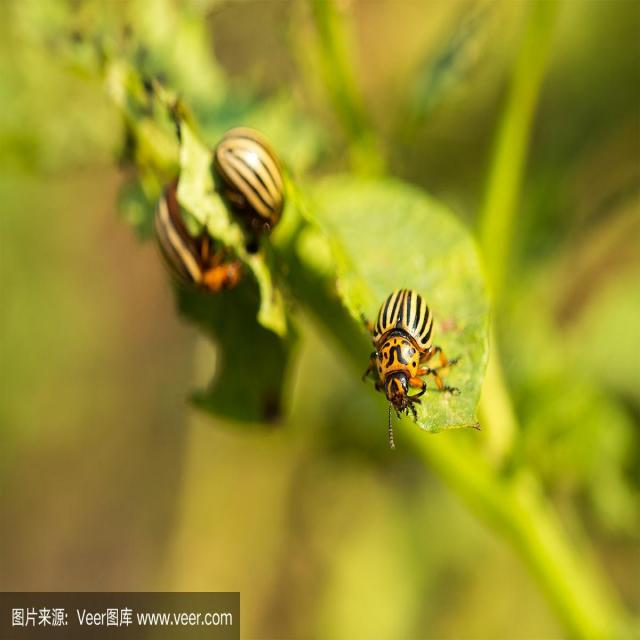ShuCaiHuaBanChong-Grown-: (208, 119, 307, 250), (355, 264, 430, 433), (133, 173, 218, 314)
